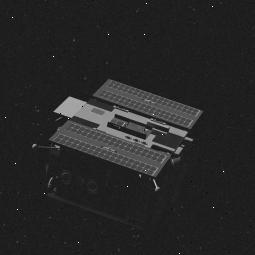proba_2: (31, 104, 206, 212)
